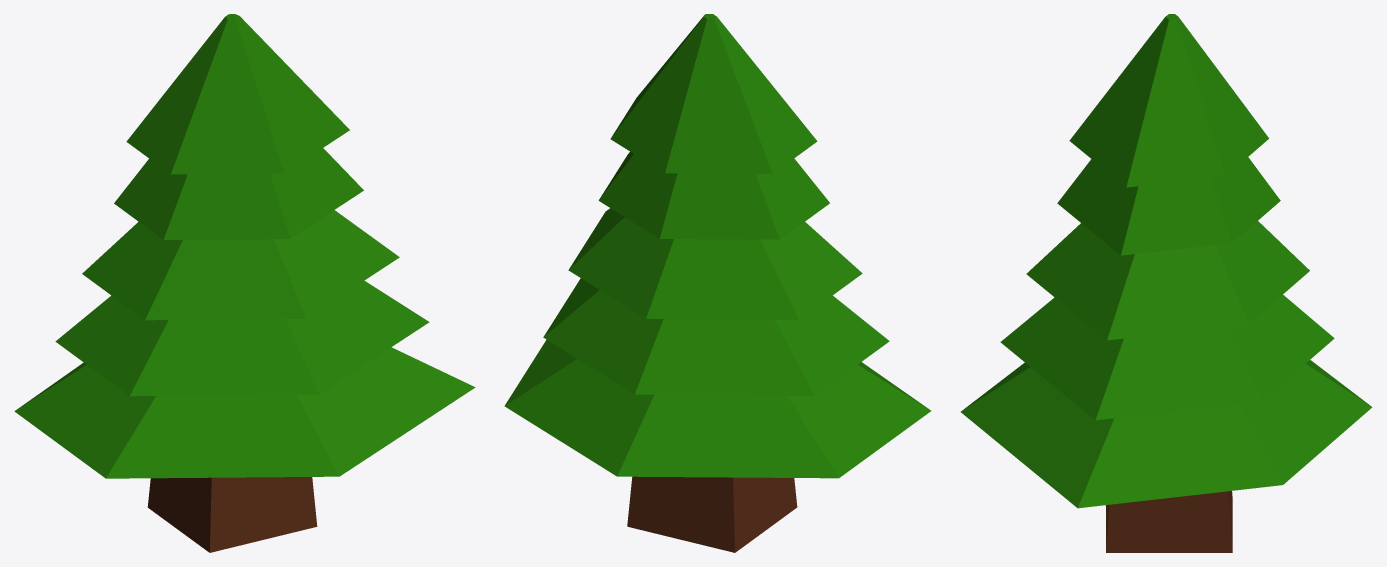
The model's file is Tree 2.fbx.
3 views of the same model, side by side, from view 1: azimuth 30°, elevation 25°; view 2: azimuth 150°, elevation 25°; view 3: azimuth 270°, elevation 25° (orthographic). The views are drawn at different scales.
Visible parts, largest first — view 1: TreePine.003; view 2: TreePine.003; view 3: TreePine.003.
Part boxes in pixels (bbox=[...]): TreePine.003: bbox=[14, 14, 475, 552]; TreePine.003: bbox=[504, 14, 931, 552]; TreePine.003: bbox=[961, 14, 1372, 552].
Bounding box in the file's own units: 1549 × 1993 × 1460.
